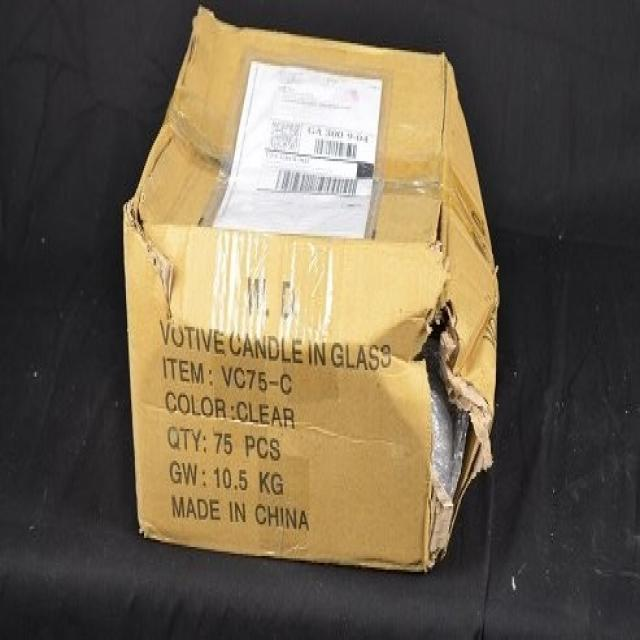hole: (400, 302, 482, 518)
